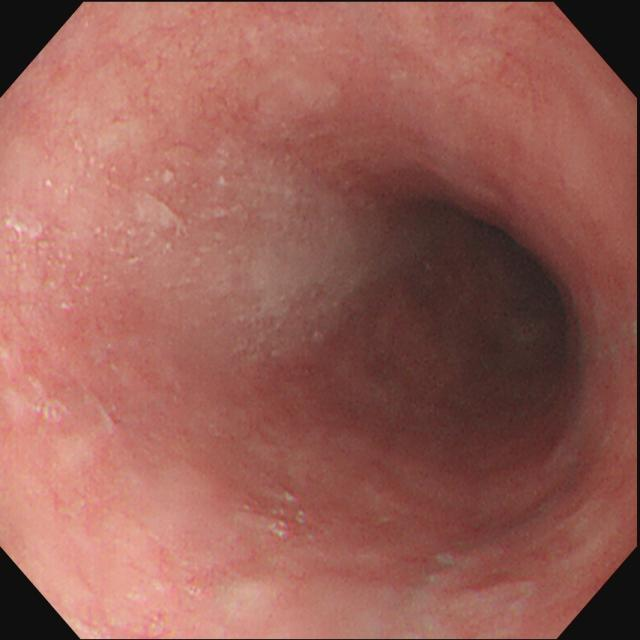E: (392, 197, 574, 399)
J: (237, 145, 366, 328)
